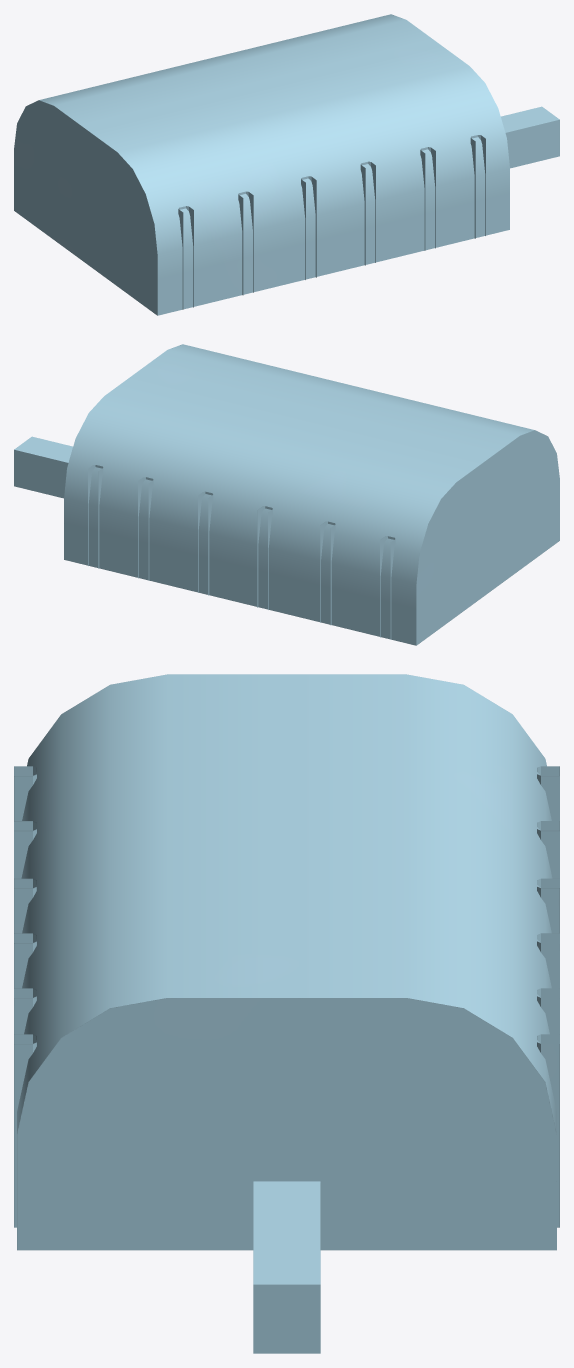
Rendered from IceCasino.fbx.
The picture shows the model from 3 angles, top to bottom: view 1: azimuth 30°, elevation 25°; view 2: azimuth 150°, elevation 25°; view 3: azimuth 270°, elevation 25°; orthographic projection. The views are drawn at different scales.
Parts seen in each view (by area): view 1: Plane.003; view 2: Plane.003; view 3: Plane.003.
Boxes of the visible parts, x1,y1,x2,y2 form: Plane.003: (14, 14, 559, 315); Plane.003: (14, 344, 559, 645); Plane.003: (14, 674, 559, 1353).
Bounding box in the file's own units: 4764 × 1313 × 2575.
